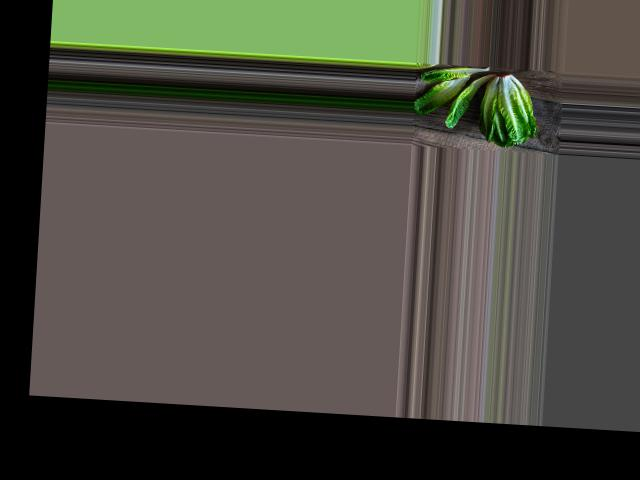lettuce: (474, 74, 542, 148)
